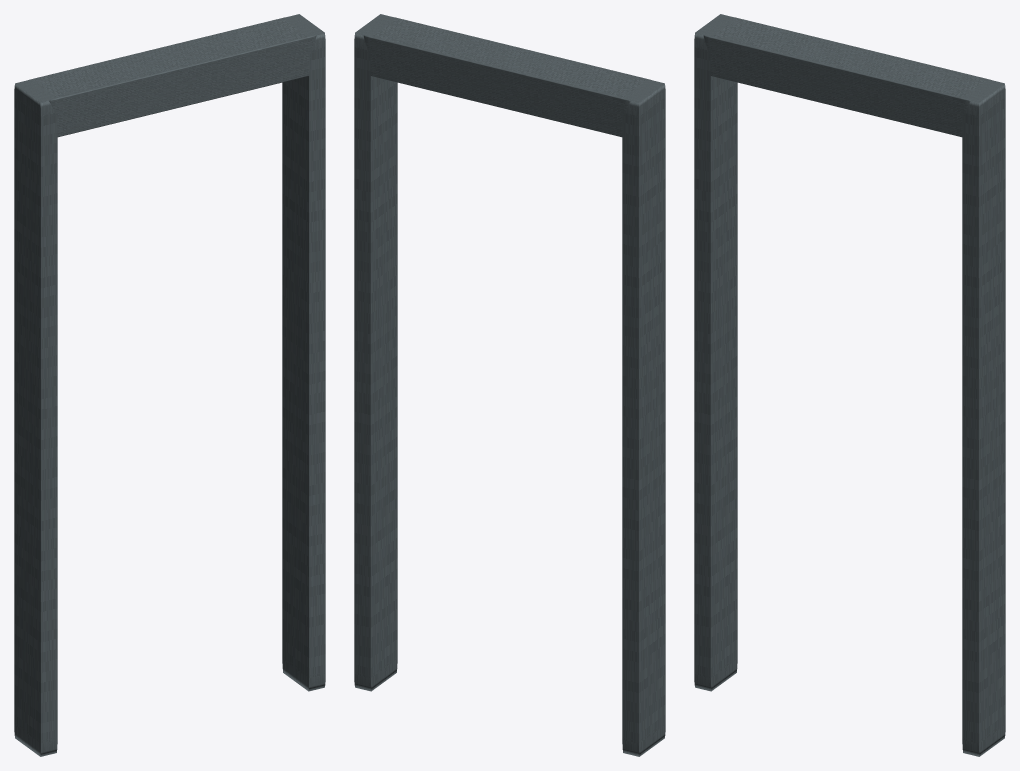
File: jamb.glb
3 renders of one model, left to right at view 1: azimuth 30°, elevation 25°; view 2: azimuth 150°, elevation 25°; view 3: azimuth 330°, elevation 25°, orthographic.
Visible parts, largest first — view 1: jamb (×2), head; view 2: jamb (×2), head; view 3: jamb (×2), head.
Part boxes in pixels (x1=…): jamb (×2): x1=14, y1=14, x2=325, y2=756; head: x1=29, y1=17, x2=316, y2=137; jamb (×2): x1=354, y1=14, x2=665, y2=756; head: x1=363, y1=17, x2=650, y2=137; jamb (×2): x1=694, y1=14, x2=1005, y2=756; head: x1=703, y1=17, x2=990, y2=137.
Size of the model in its own units: 0.98 by 2.15 by 0.16.
Materials: 1 (1 with a texture image).
